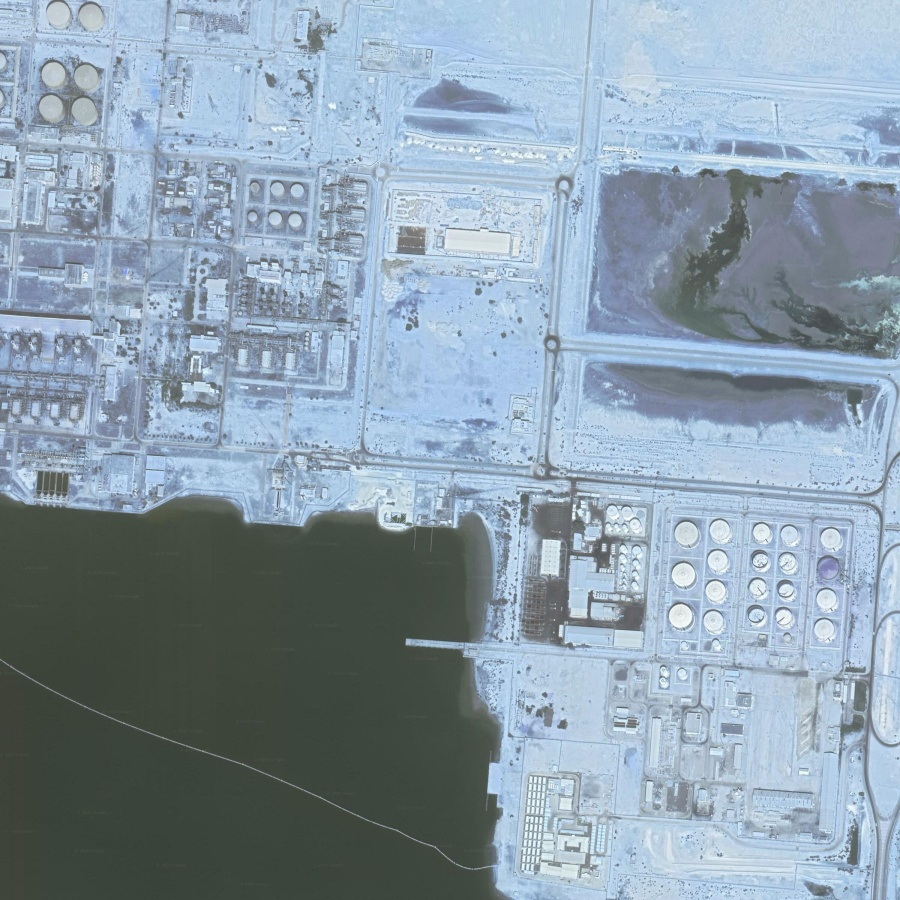PowerPlant: (502, 485, 858, 686)
